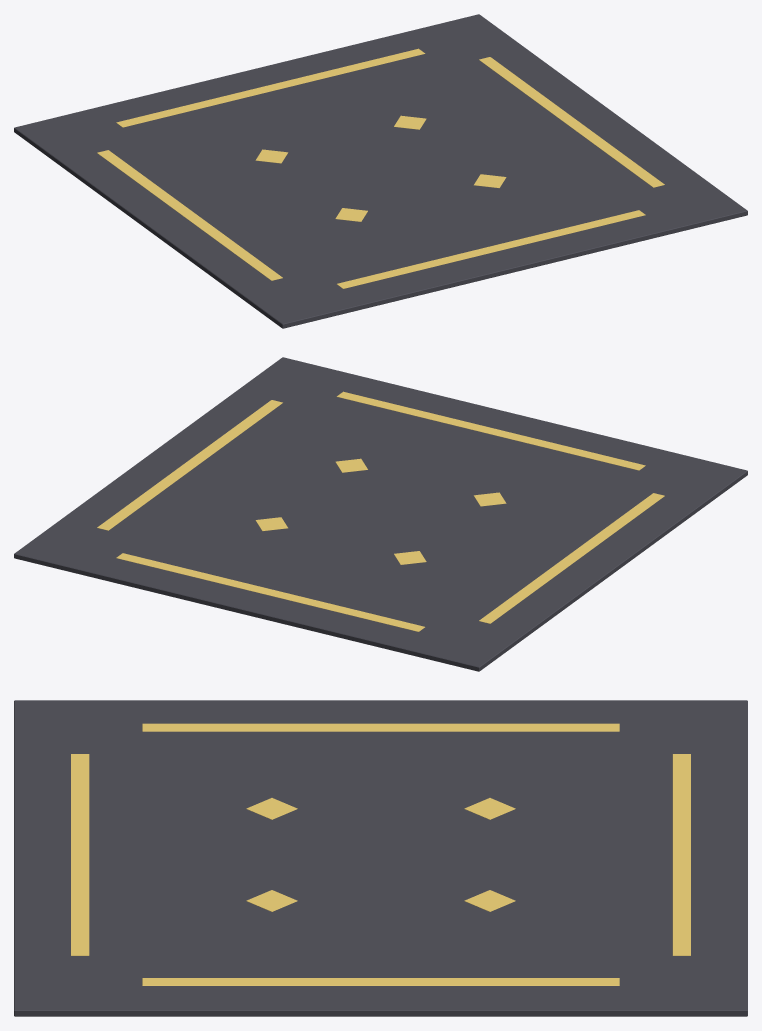
File: cinema-multiplex-and-foyer-aisle-floor-tile-2ed6e733__34656.glb
3 views of the same model, one above another, from view 1: azimuth 30°, elevation 25°; view 2: azimuth 150°, elevation 25°; view 3: azimuth 270°, elevation 25° (orthographic). The views are drawn at different scales.
Parts seen in each view (by area): view 1: aisle-floor-tile; view 2: aisle-floor-tile; view 3: aisle-floor-tile.
Boxes of the visible parts, box(x1,y1,x2,y2) form: aisle-floor-tile: box(14, 14, 747, 328); aisle-floor-tile: box(14, 357, 747, 671); aisle-floor-tile: box(14, 700, 747, 1016).
Size of the model in its own units: 2 by 0.0215 by 2.
